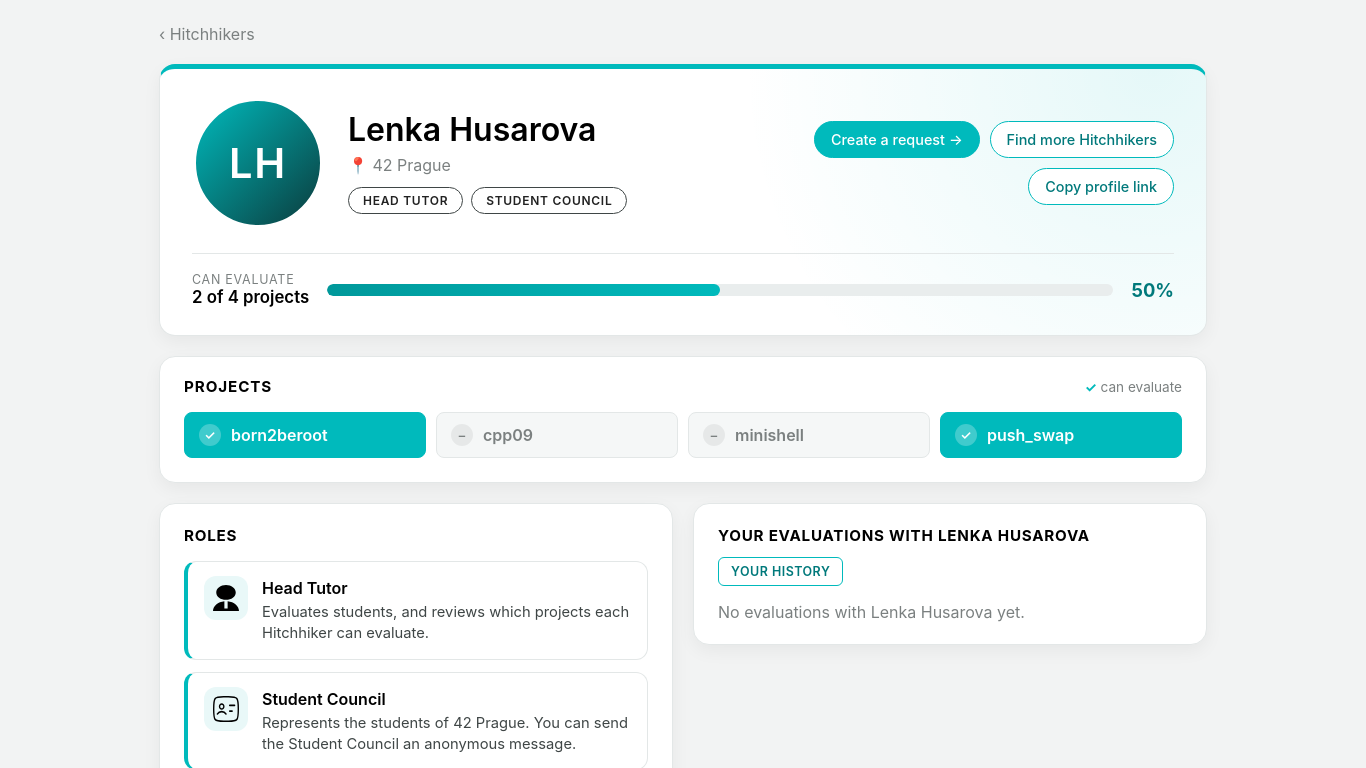
Test: PersonProfilePage › copies the profile link
Click the button "Copy profile link": click(1101, 186) [1028,168,1174,205]
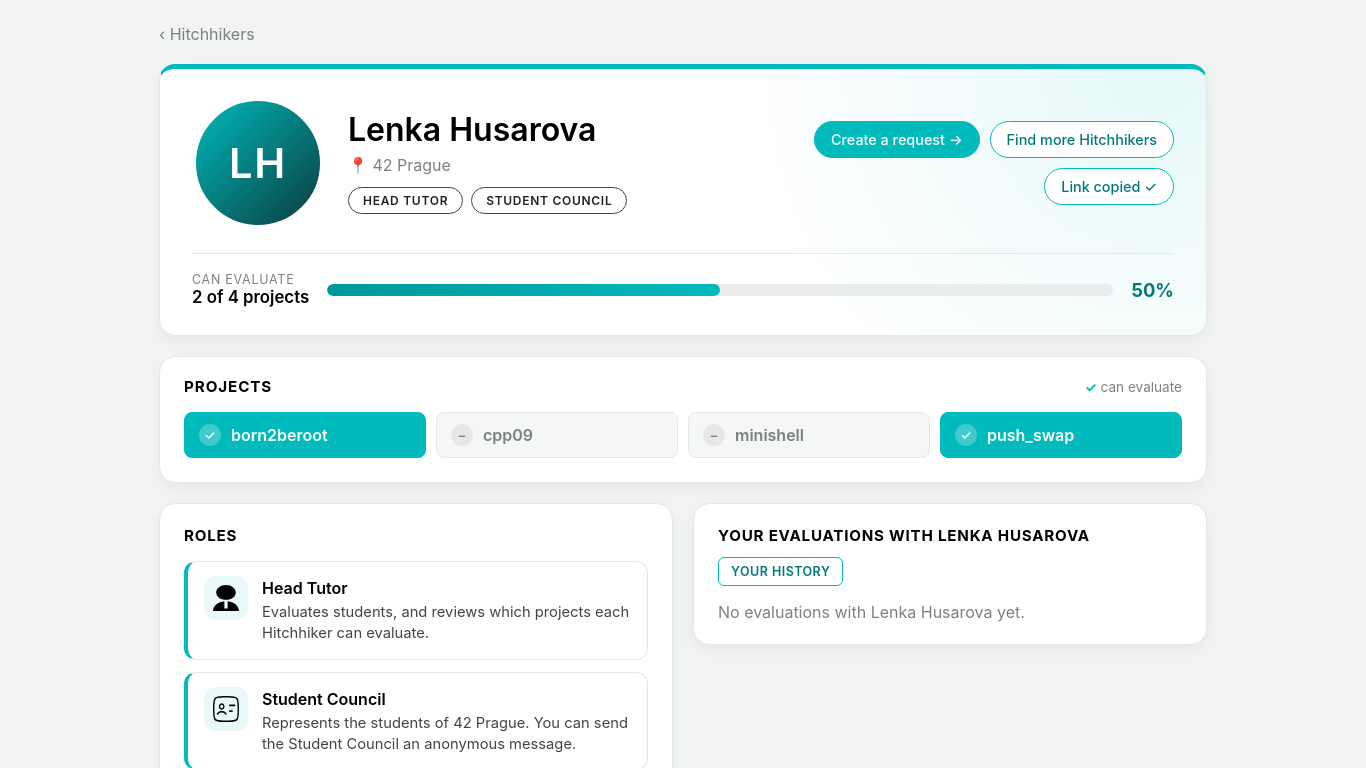
Now the button "Link copied ✓" is shown, box [1044,168,1174,205]
